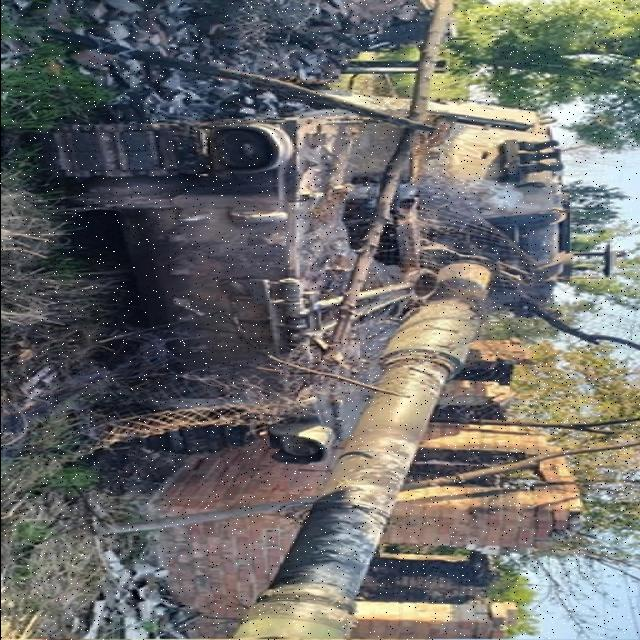ART: (36, 92, 586, 638)
